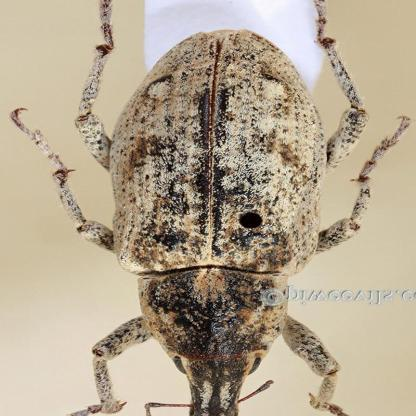rice-bug: (54, 0, 374, 416)
